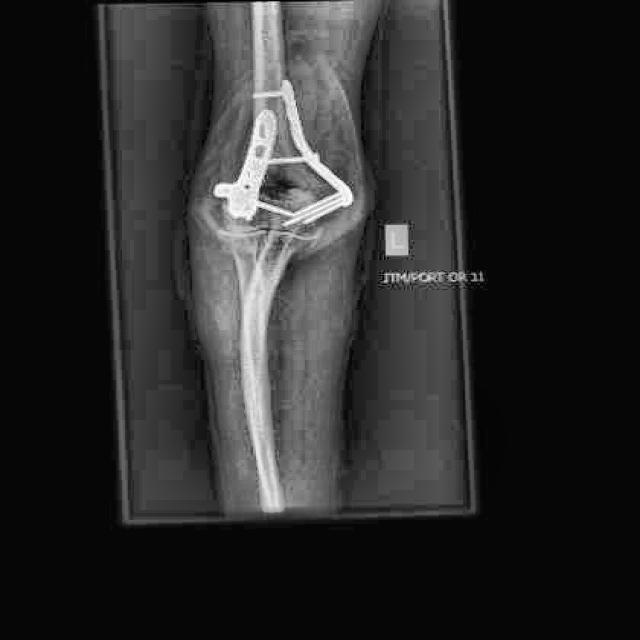elbow positive: (238, 121, 329, 201)
